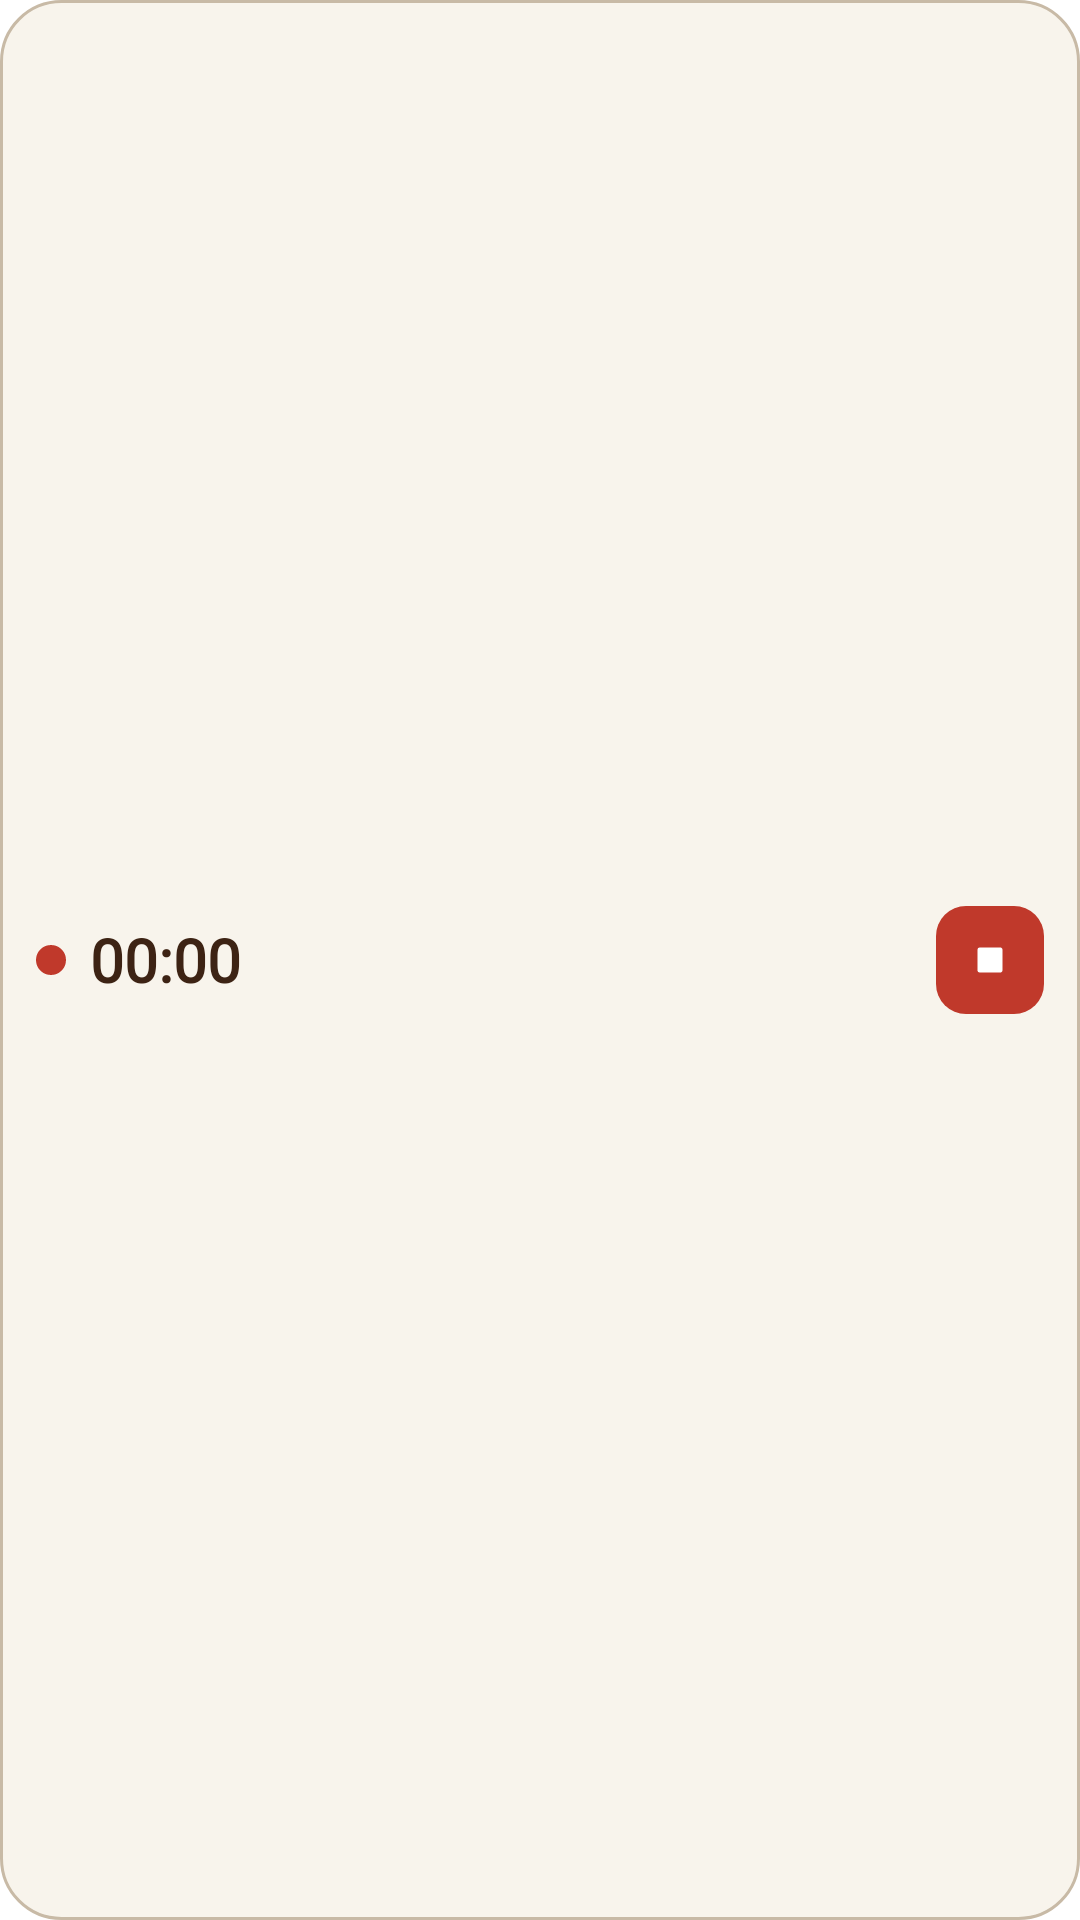

Locate icon controls on the screen. Image size 1080x1920, boxes as (x1, y1, x2, y2).
Recording: (36, 945, 66, 975)
Stop: (936, 906, 1044, 1014)
